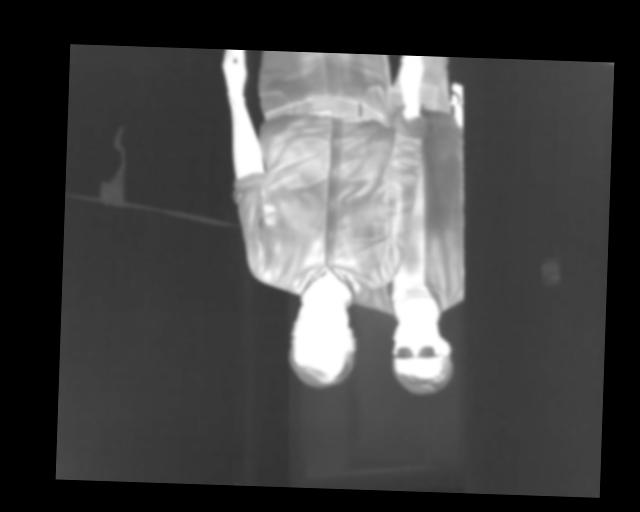face: (285, 290, 358, 389), (388, 312, 453, 396)
